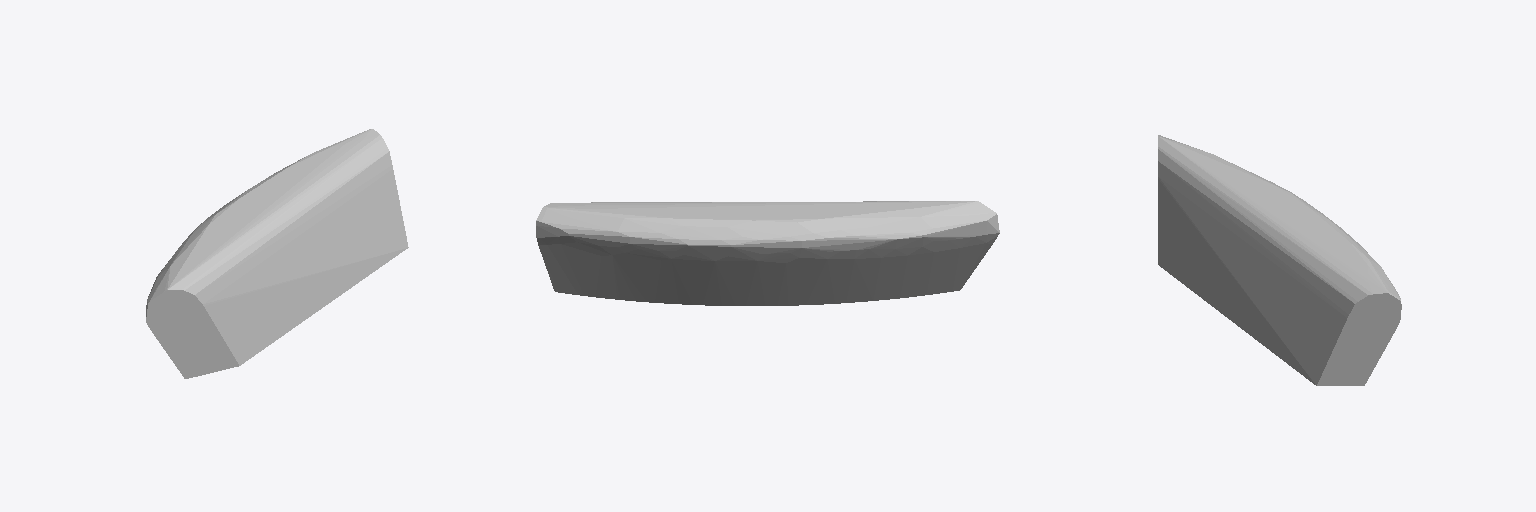
File: skillet_collision_14.obj
3 renders of one model, left to right at view 1: azimuth 30°, elevation 25°; view 2: azimuth 150°, elevation 25°; view 3: azimuth 270°, elevation 25°, orthographic.
Size of the model in its own units: 0.0658 by 0.0172 by 0.0405.